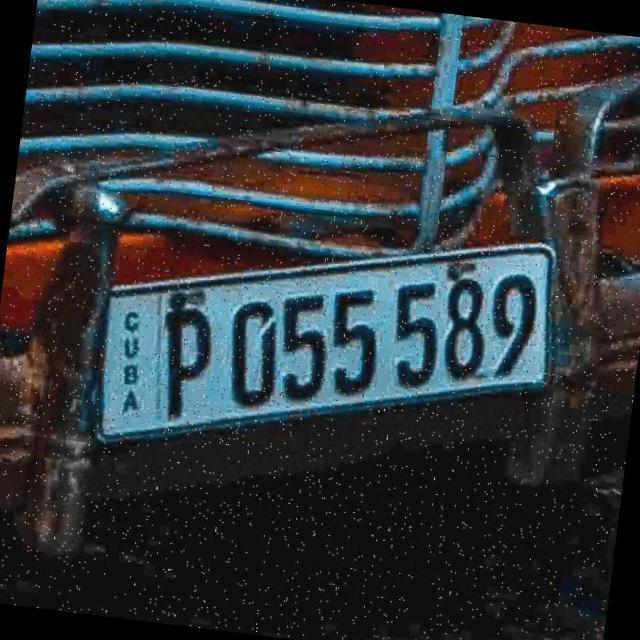license_plate: (82, 178, 598, 492)
